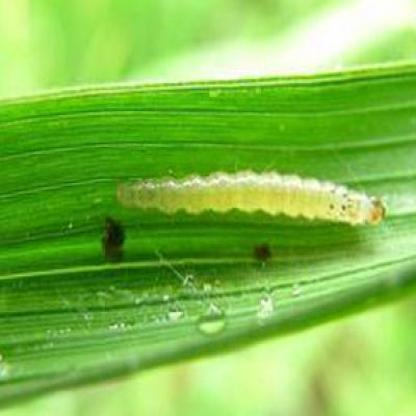leaf-folder: (124, 143, 416, 242)
